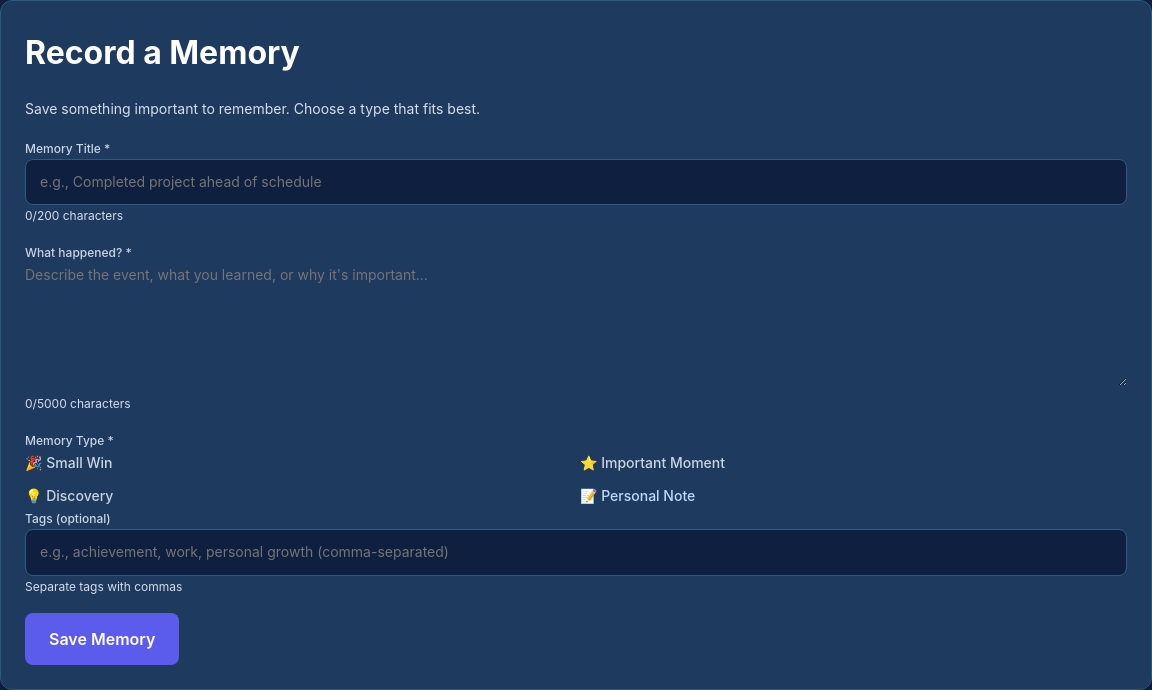
Test case: MemoryRecorder Component › Form Validation › should show error when content is empty
Step 1. Type "Test Title" into the field with placeholder "e.g., Completed project ahead of schedule" → (576, 182), box [25,158,1127,205]
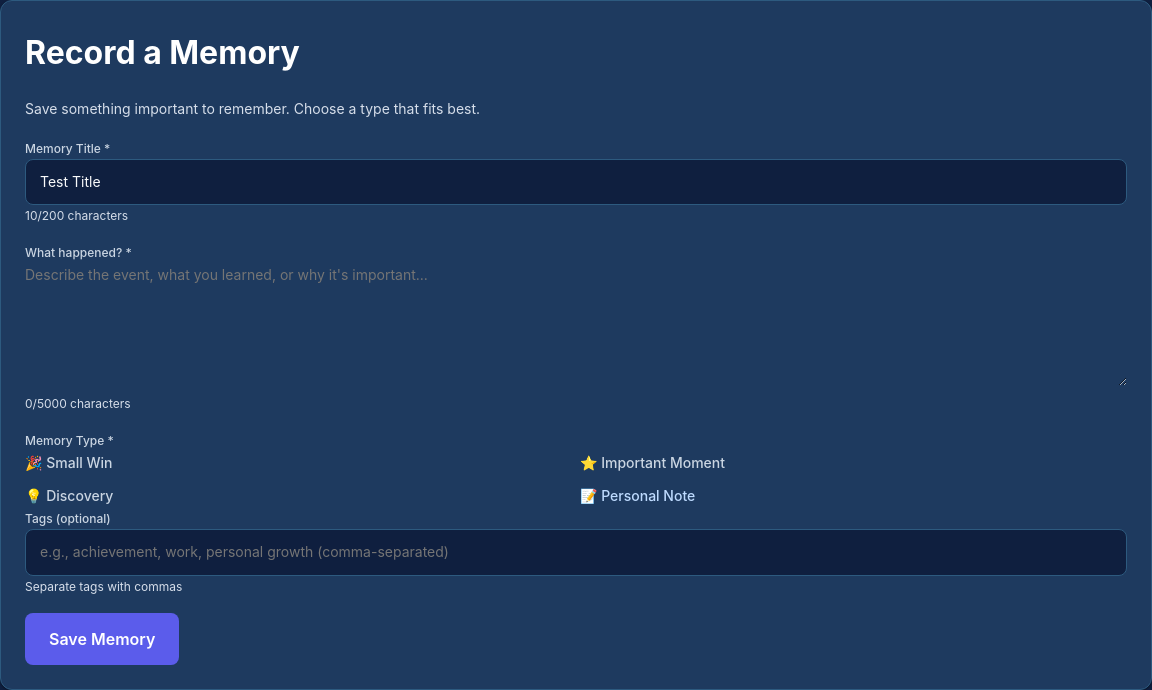
Step 2. Click the button "Save Memory" → (102, 638), box [25,612,179,664]
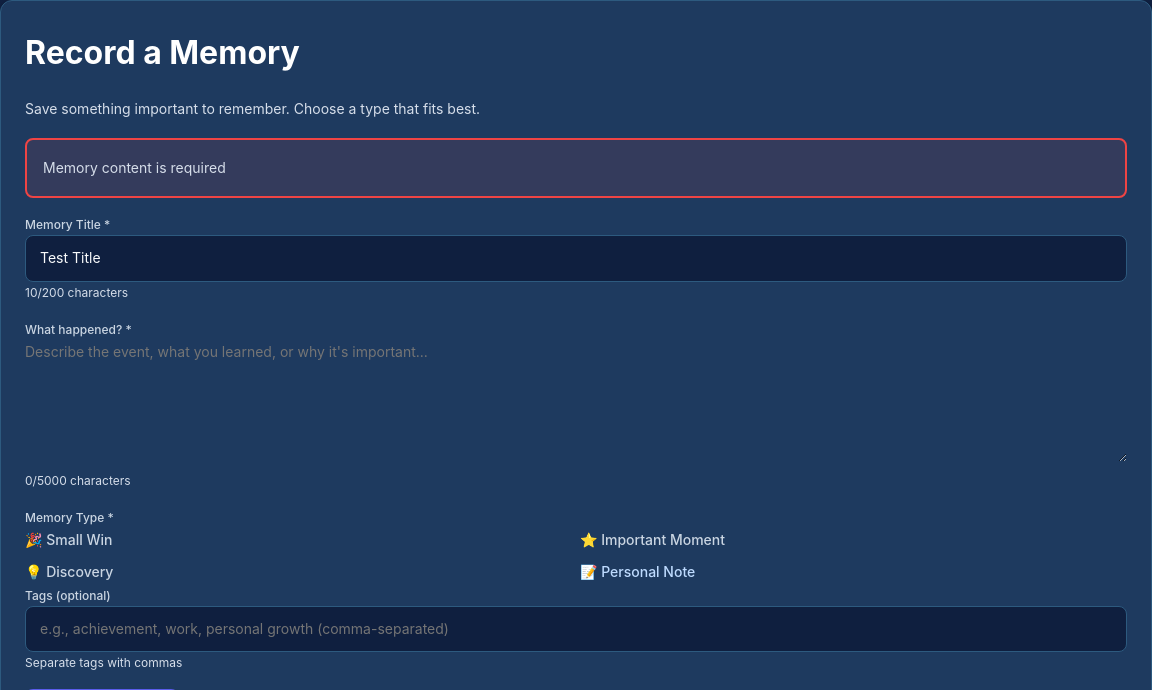
Now the text "Memory content is required" is shown, box [43,158,226,176]
